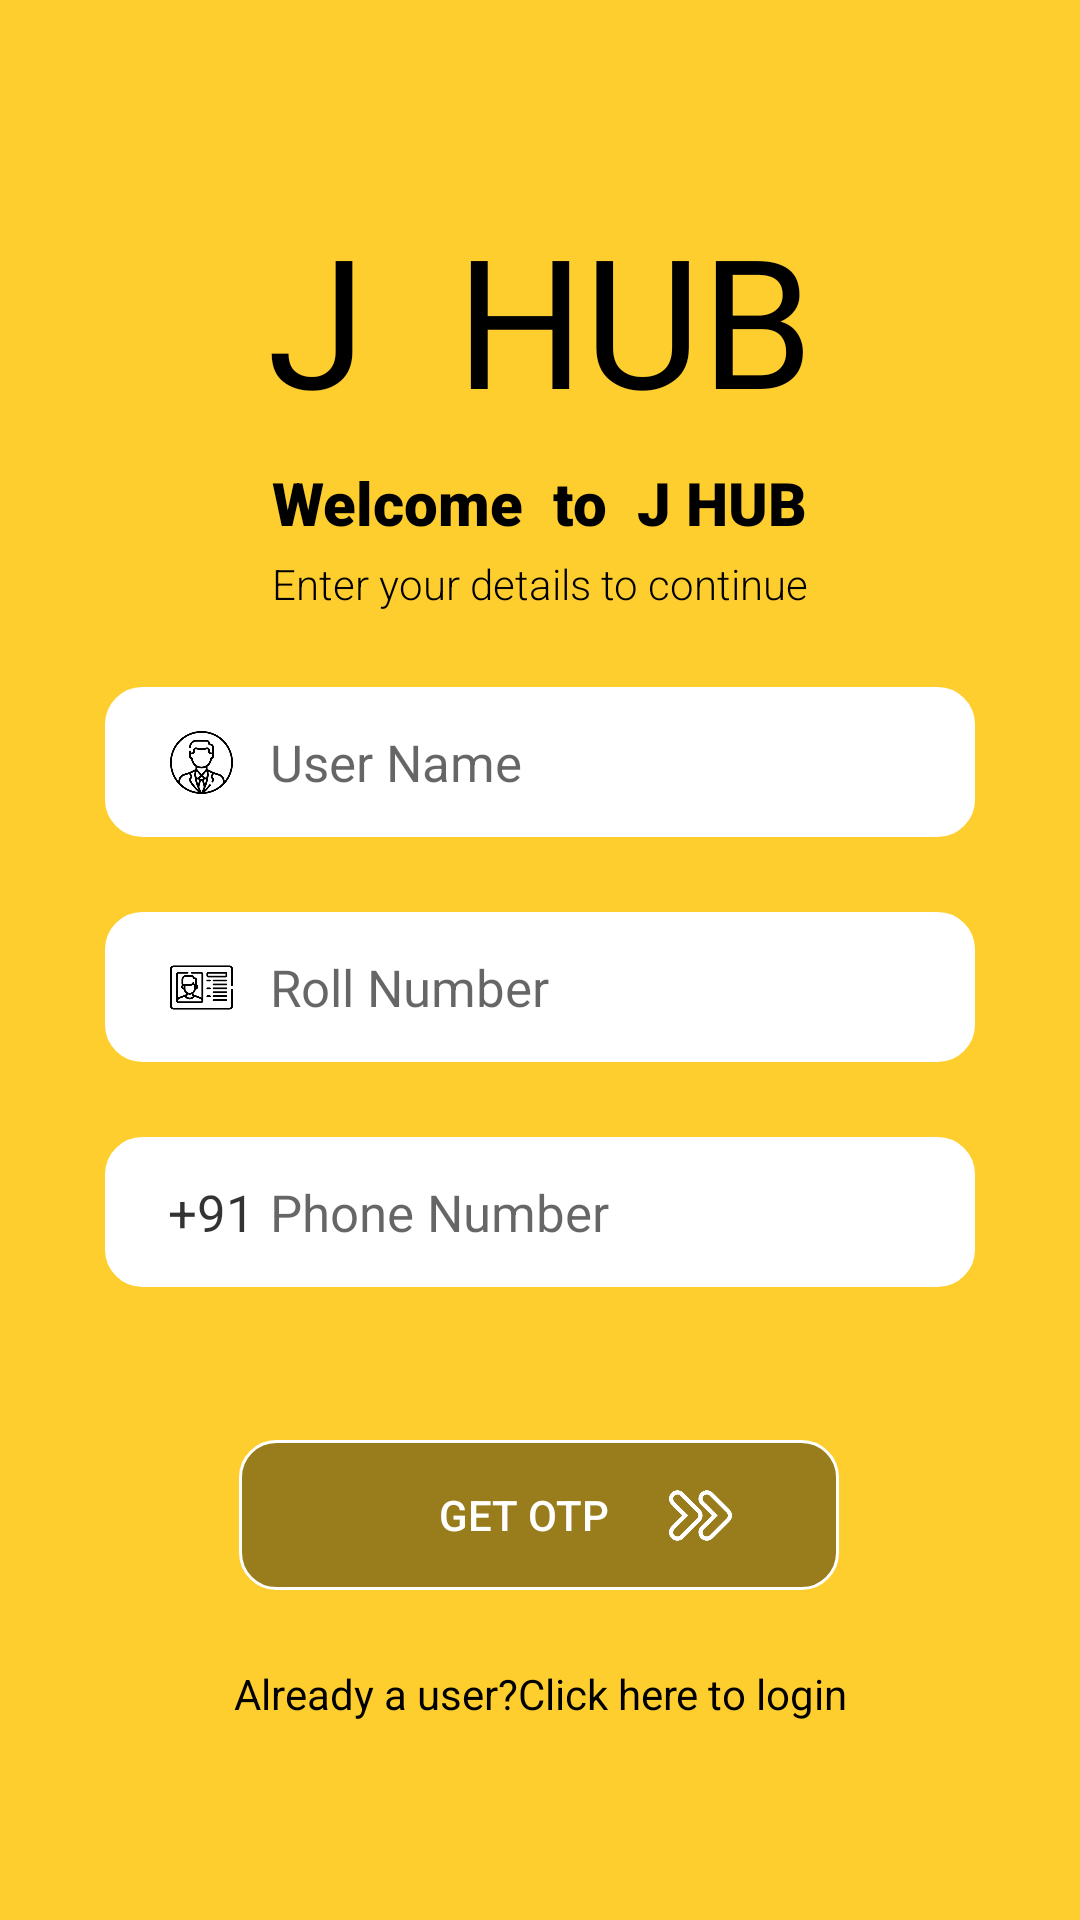

Icons on this 1080x1920 Android screen, each with the point to tap as point (x, y):
next: point (700, 1515)
profile: point (201, 762)
